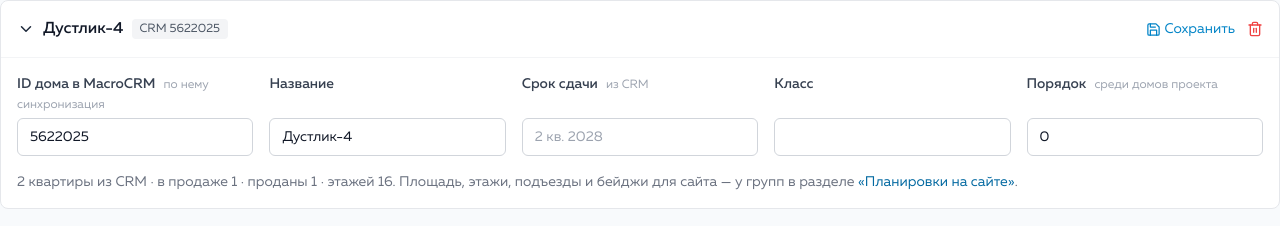
Scenario: HouseCard › срок сдачи: пусто — из CRM (подсказкой), вписанный — вручную с CRM рядом
This screenshot has width=1280, height=226.
expect the text "из CRM" is shown: met, box [606,79,649,91]
Type "Сдан" into the 2nd field at (640, 137), box [522,118,758,156]
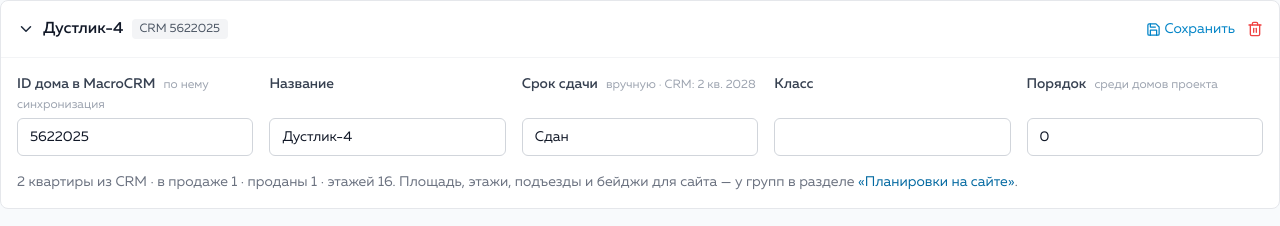
expect the text "вручную · CRM: 2 кв. 2028" is shown: met, box [606,79,756,91]
